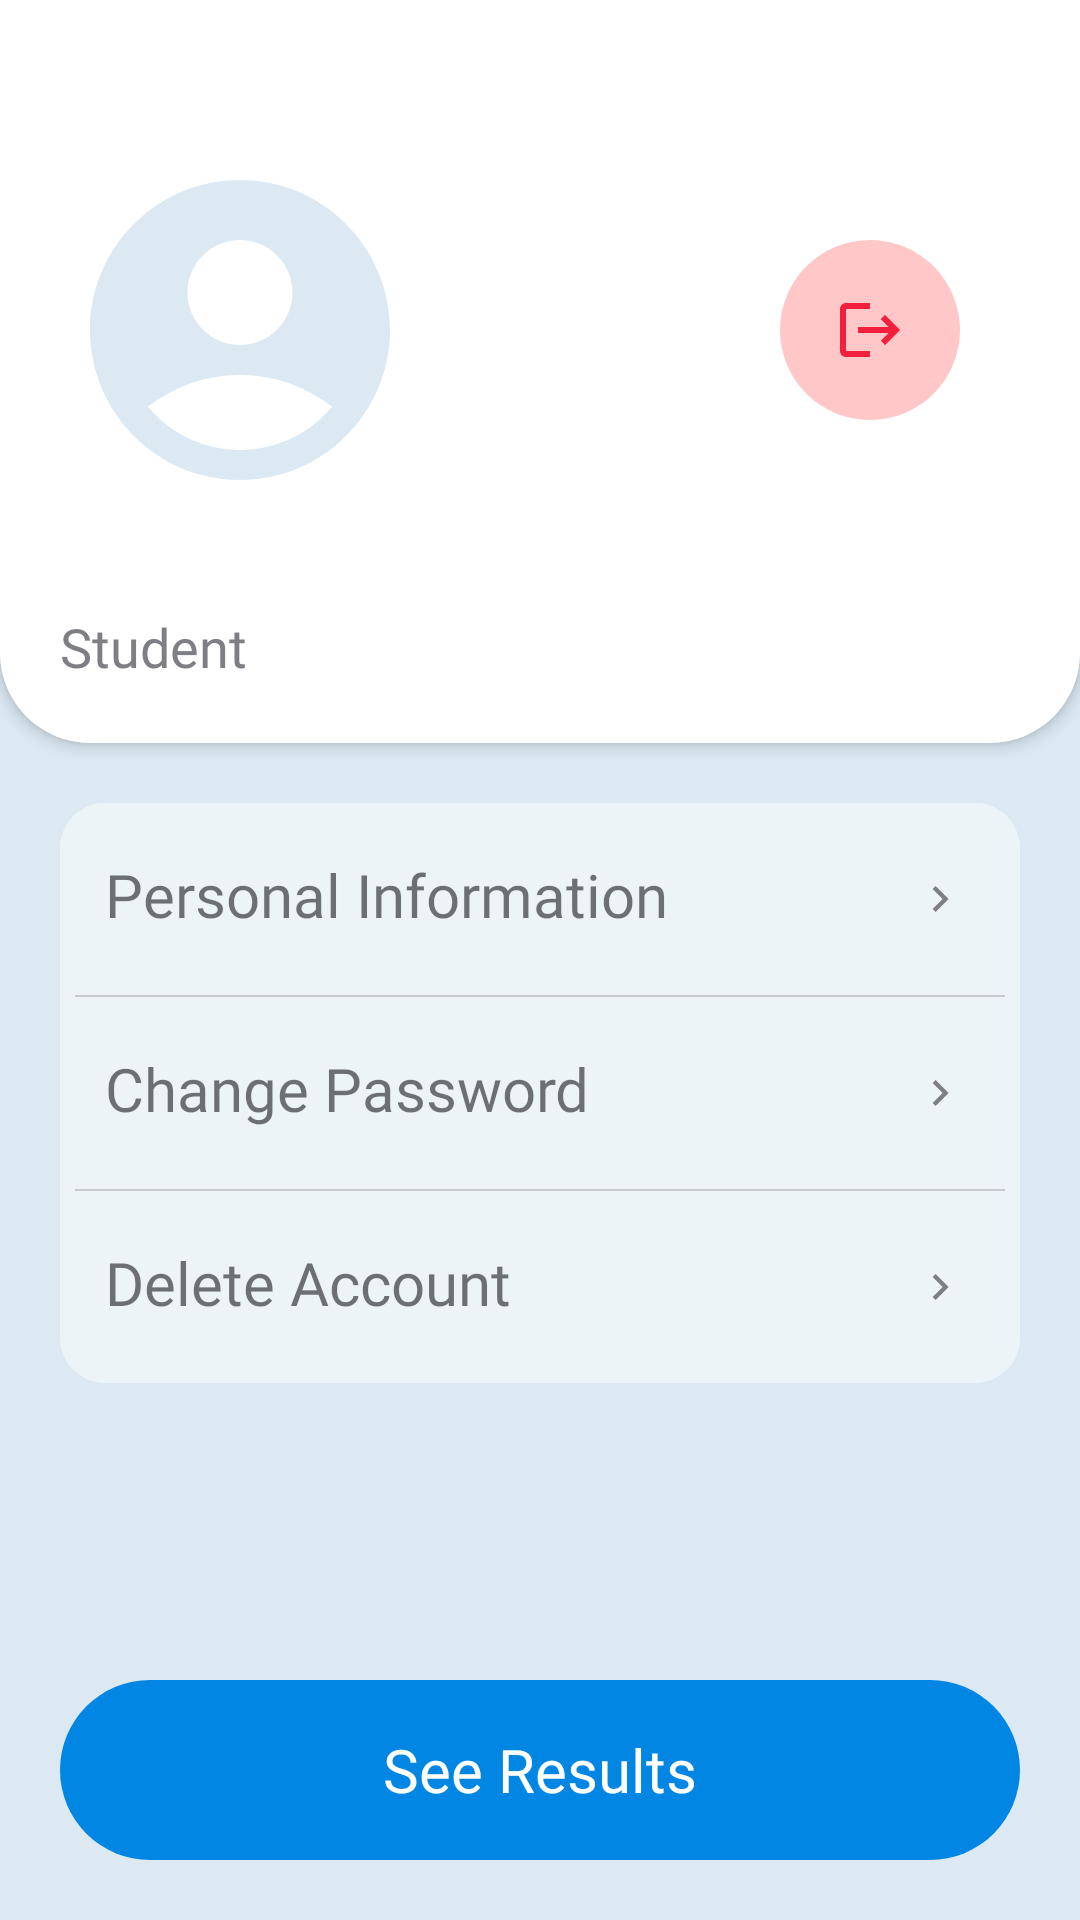

Icon bounding boxes for this 1080 x 1920 phone screenshot, format Rect(x1, y1, x2, y2):
next: Rect(933, 886, 948, 912), Rect(933, 1080, 948, 1106), Rect(933, 1274, 948, 1300)
profile: Rect(90, 180, 390, 480)
